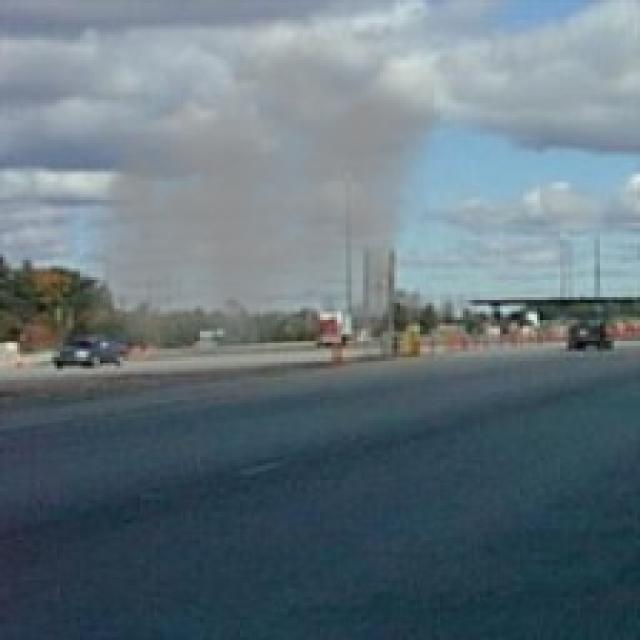Smoke: (82, 22, 434, 374)
